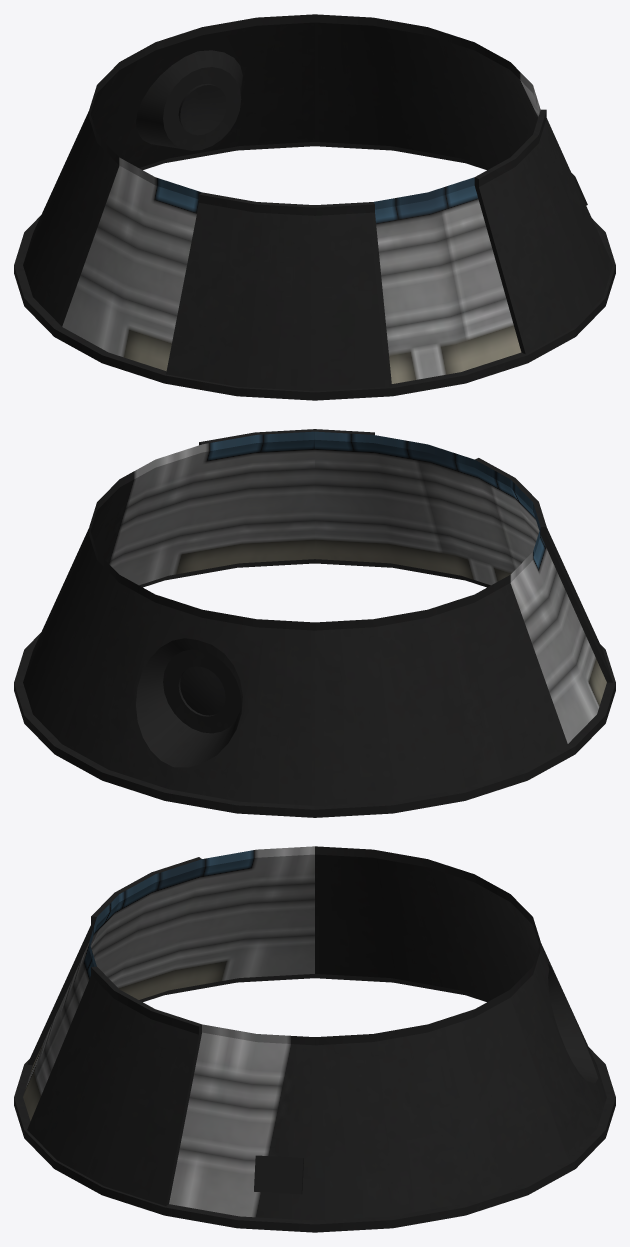
File: vega_adapter_s2_s1p5_1.obj
3 views of the same model, one above another, from view 1: azimuth 30°, elevation 25°; view 2: azimuth 150°, elevation 25°; view 3: azimuth 270°, elevation 25° (orthographic).
Visible parts, largest first — view 1: 1, w1; view 2: 1, w1; view 3: 1.
Part boxes in pixels (x1,y1,x2,y2): 1: (14, 14, 615, 400); w1: (180, 85, 226, 135); 1: (14, 429, 615, 817); w1: (180, 666, 225, 715); 1: (14, 846, 615, 1232).
Bounding box in the file's own units: 2.5 × 0.75 × 2.5.
